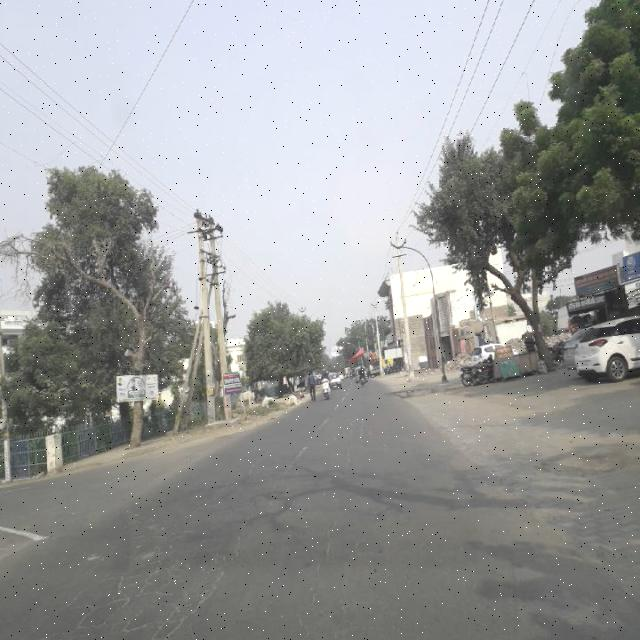D20: (73, 521, 228, 635)
D44: (280, 439, 312, 490)
